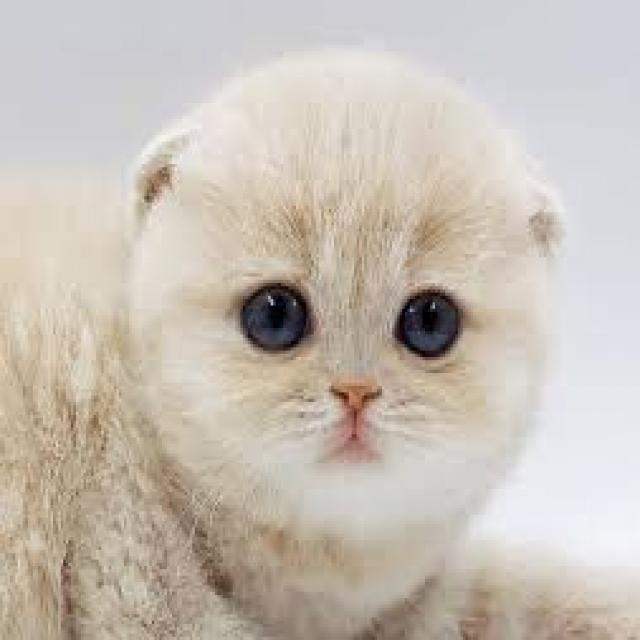cat-face: (97, 19, 592, 588)
